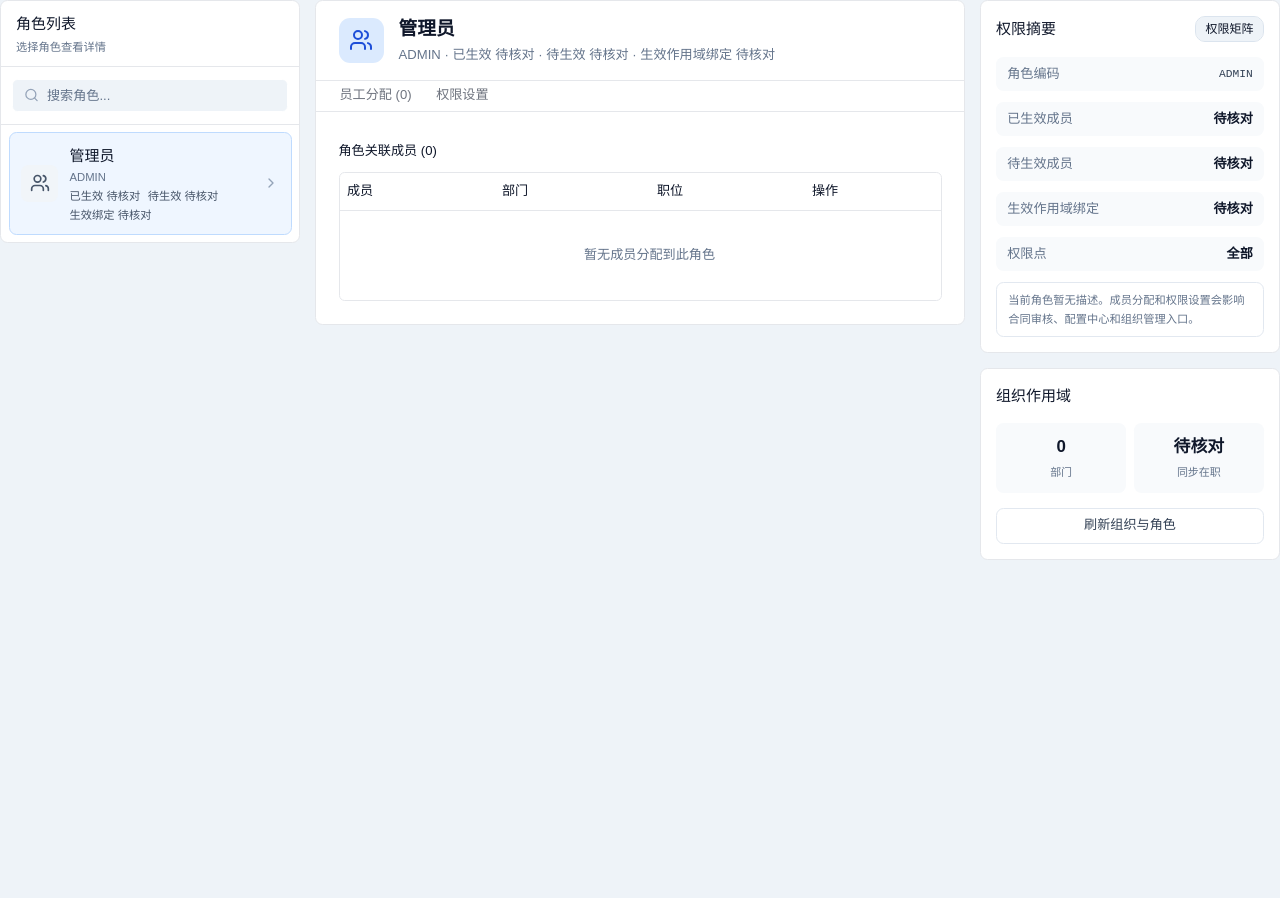
Test case: RoleAccessTab capability propagation › forwards server editing capability and revokes editing when it changes
Later steps or results of the test are not shown.
Click the tab "权限设置" at coordinates (462, 96), box [435,73,490,118]
(page scrolled)
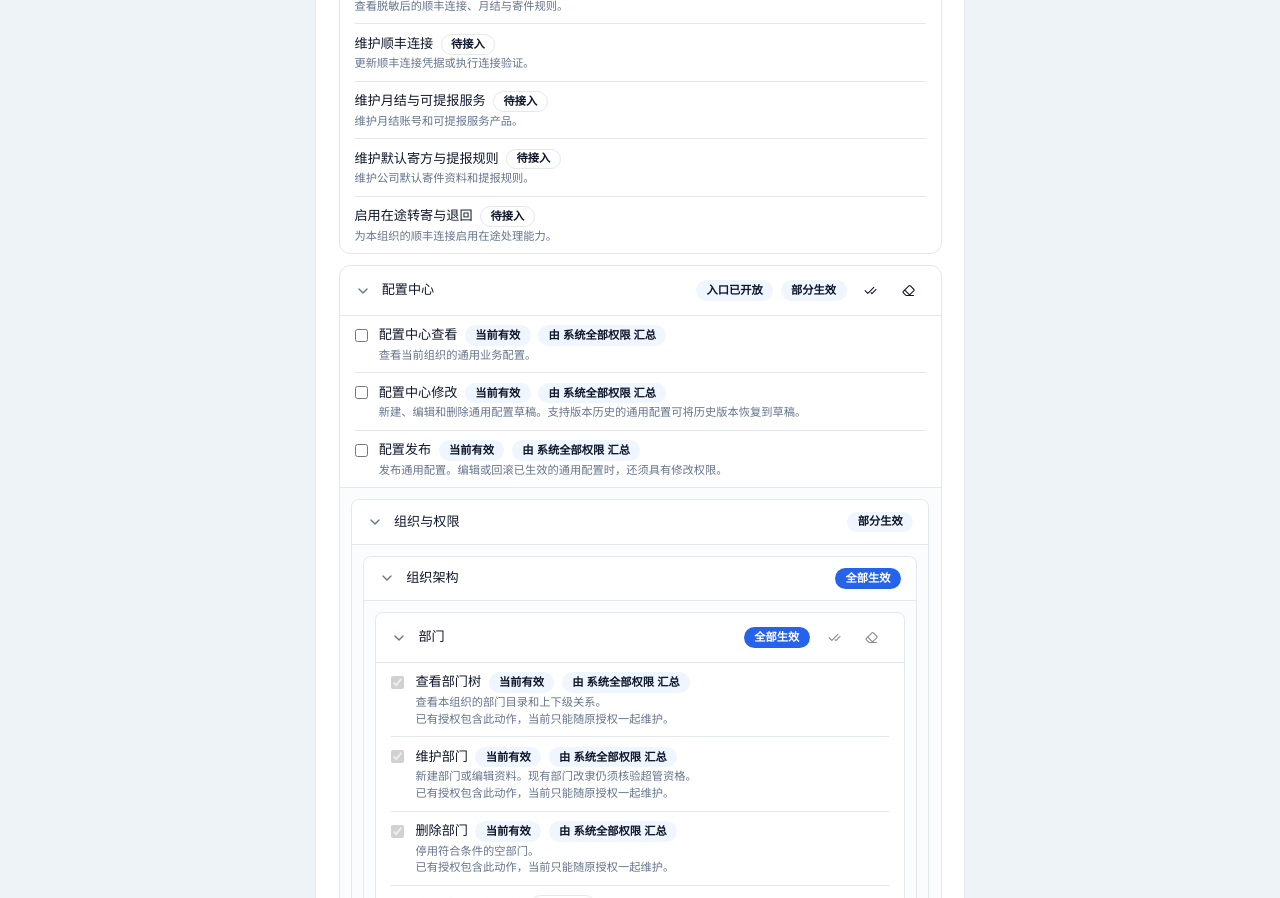
Check: the checkbox named "配置发布" is enabled, box [354,444,368,457]
